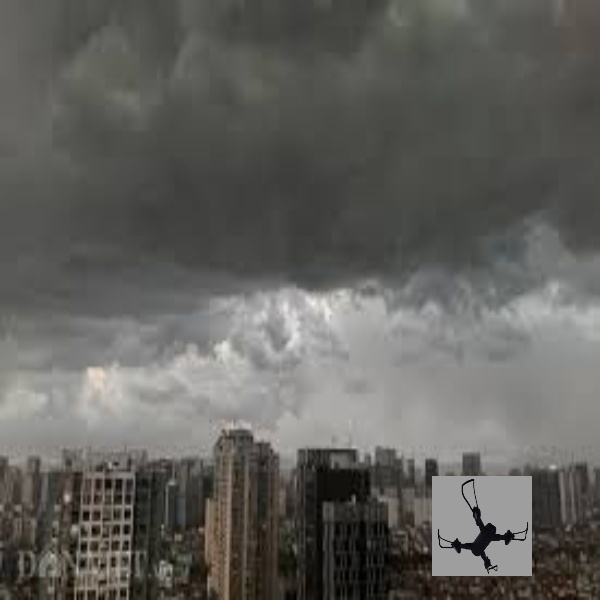drone: (429, 473, 534, 577)
